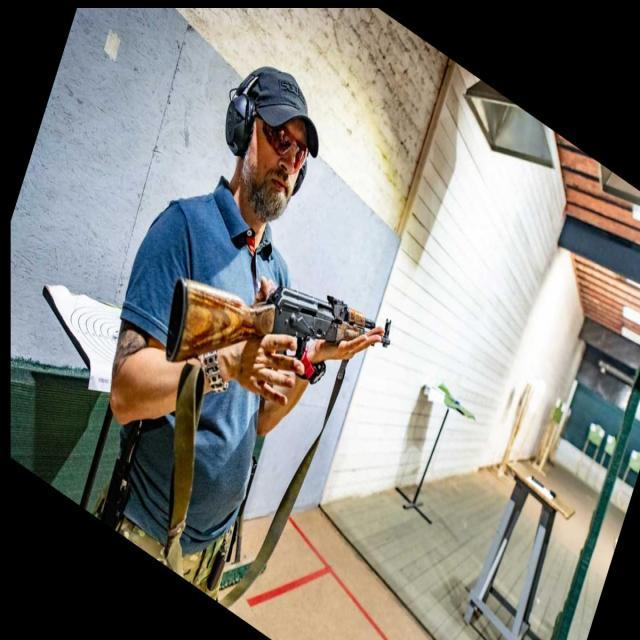weapon: (165, 278, 392, 363)
